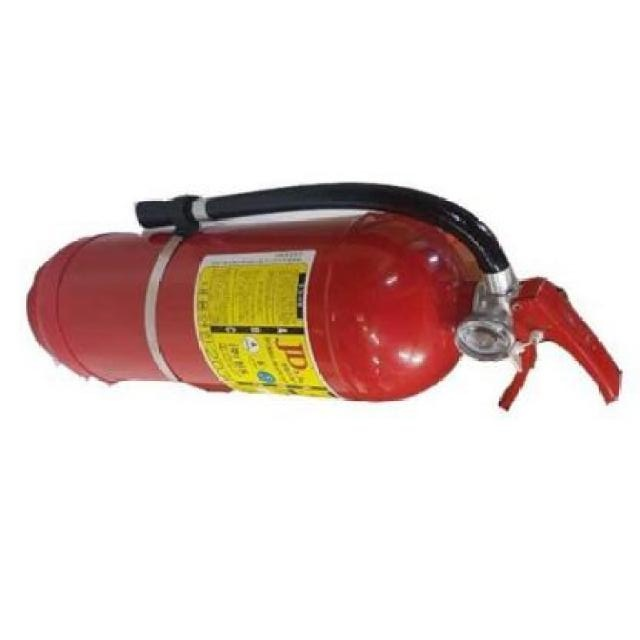fire extinguisher: (25, 181, 624, 412)
